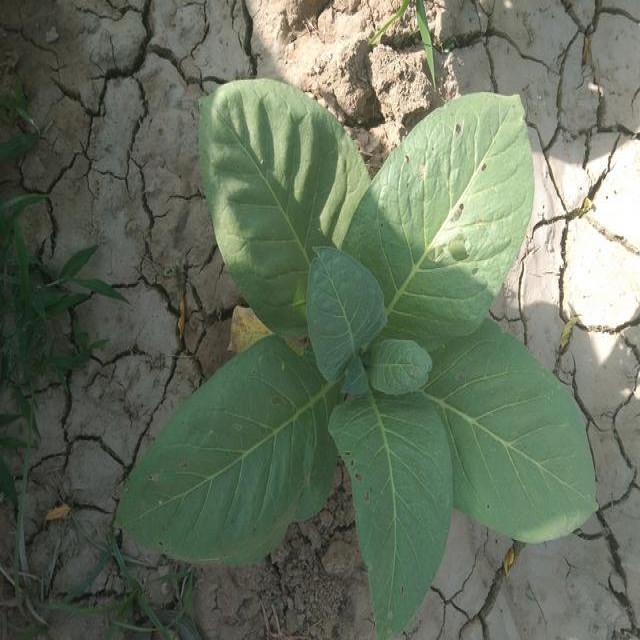crop: (147, 68, 589, 600)
